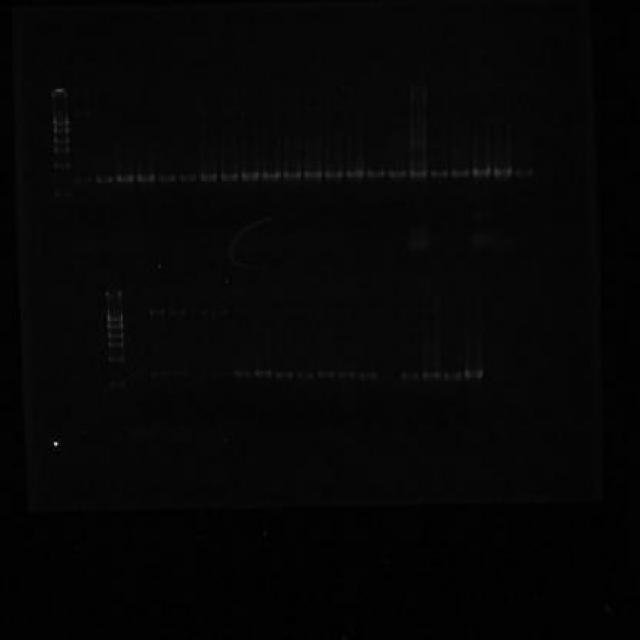B: (492, 166, 514, 179), (324, 168, 346, 180), (464, 366, 484, 379), (422, 368, 442, 381), (135, 172, 157, 183), (346, 168, 366, 180), (316, 368, 336, 380), (220, 169, 238, 182), (94, 173, 115, 184), (199, 170, 218, 182), (514, 167, 534, 178), (261, 170, 281, 181), (240, 170, 260, 181), (157, 172, 177, 183), (274, 369, 294, 380), (400, 370, 420, 381), (442, 370, 462, 381), (304, 168, 322, 180), (283, 169, 302, 180), (296, 370, 315, 381), (358, 370, 377, 381), (450, 168, 470, 178), (408, 168, 428, 178), (387, 168, 407, 178), (470, 168, 492, 177), (338, 369, 356, 380), (367, 168, 385, 178), (430, 168, 448, 178), (254, 368, 272, 378), (178, 173, 197, 182), (115, 174, 134, 183), (234, 369, 252, 378), (148, 308, 166, 317)
M: (46, 107, 76, 201), (100, 305, 131, 393)
P: (107, 379, 127, 390), (105, 312, 124, 322), (53, 143, 70, 154), (53, 134, 70, 144), (52, 117, 70, 126), (106, 322, 125, 330), (108, 331, 124, 340), (108, 355, 125, 363), (53, 126, 70, 134), (108, 340, 124, 348)
Pc: (105, 290, 124, 302), (51, 88, 71, 99)
